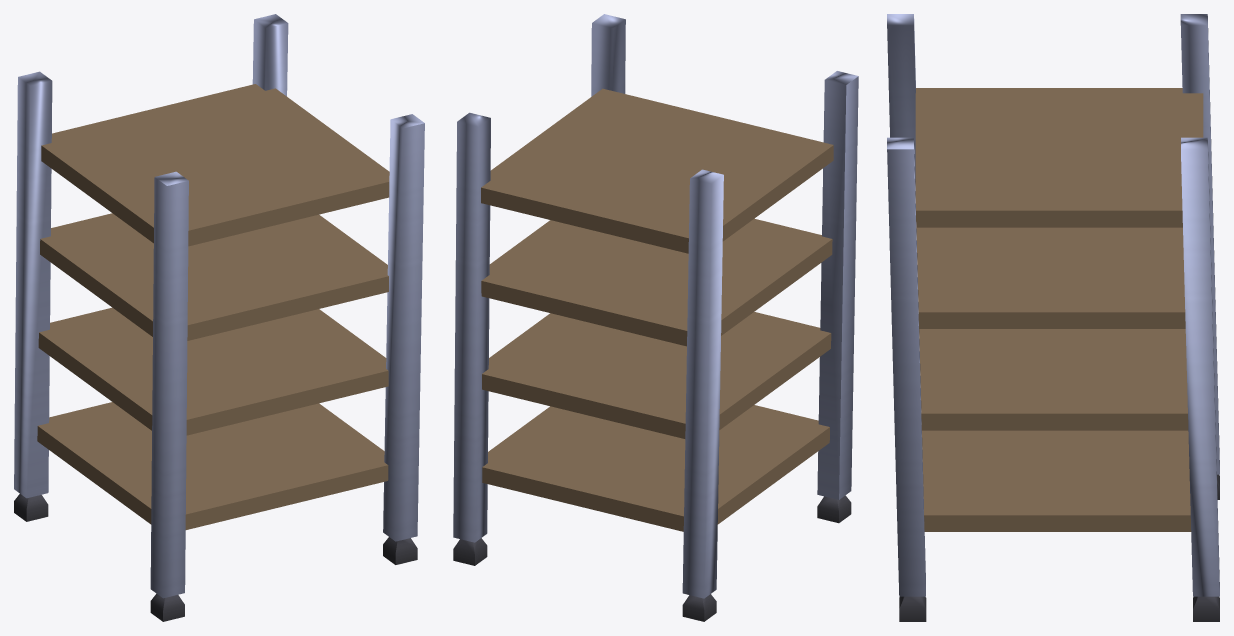
Rendered from shelf.glb.
The picture shows the model from 3 angles, left to right: view 1: azimuth 30°, elevation 25°; view 2: azimuth 150°, elevation 25°; view 3: azimuth 270°, elevation 25°; orthographic projection. The views are drawn at different scales.
Visible parts, largest first — view 1: shelf; view 2: shelf; view 3: shelf.
Part boxes in pixels (box(x1,y1,x2,y2)): shelf: box(14, 14, 424, 621); shelf: box(453, 14, 858, 621); shelf: box(887, 14, 1219, 621).
Bounding box in the file's own units: 1 × 1.63 × 1.04.
Materials: 1 (1 with a texture image).
